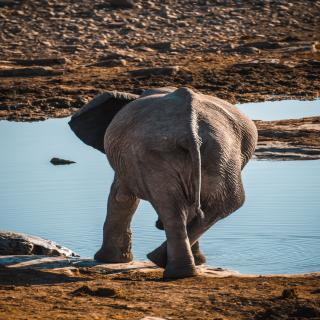Elephant: (67, 85, 260, 282)
